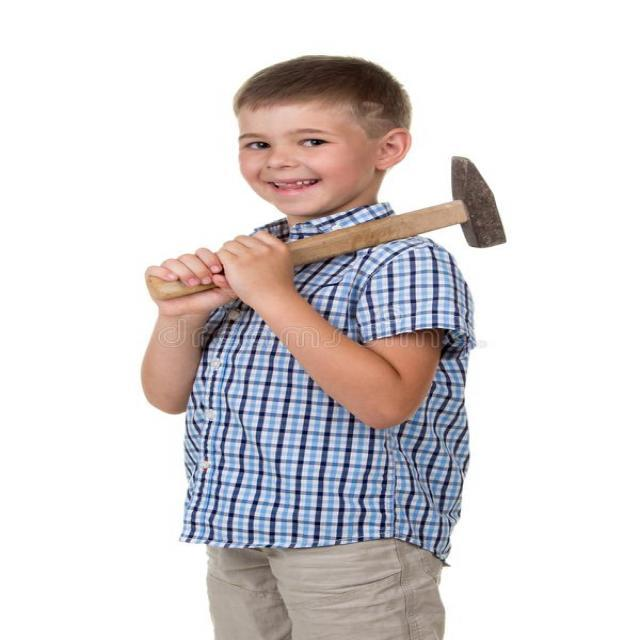hammer: (134, 146, 513, 308)
